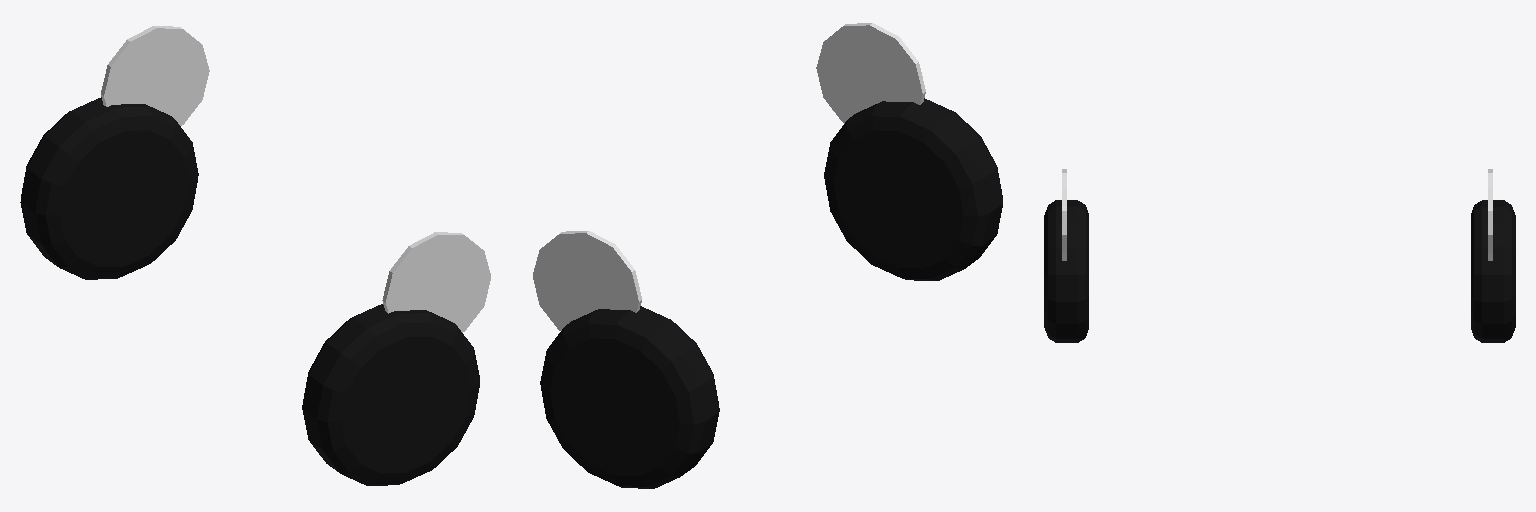
URDF robot description (powerbot):
<?xml version="1.0" ?>
<!-- =================================================================================== -->
<!-- |    This document was autogenerated by xacro from ./powerbot.xacro               | -->
<!-- |    EDITING THIS FILE BY HAND IS NOT RECOMMENDED                                 | -->
<!-- =================================================================================== -->
<robot name="powerbot" xmlns:controller="http://playerstage.sourceforge.net/gazebo/xmlschema/#controller" xmlns:interface="http://playerstage.sourceforge.net/gazebo/xmlschema/#interface" xmlns:sensor="http://playerstage.sourceforge.net/gazebo/xmlschema/#sensor" xmlns:xacro="http://ros.org/wiki/xacro">
  <!--<xacro:include filename="$(find p2os_urdf)/defs/materials.xacro"/>-->
  <!-- 0.148 -->
  <!-- Chassis -->
  <link name="base_center">
    <inertial>
      <mass value="120.0"/>
      <origin xyz="-0.045 0 0.067"/>
      <inertia ixx="0.4255" ixy="0.0" ixz="0.0" iyy="0.4955" iyz="0.0" izz="0.7441"/>
    </inertial>
    <visual name="base_visual">
      <origin rpy="0 0 0" xyz="-0.045 0 0.067"/>
      <geometry name="pioneer_geom">
        <mesh filename="package://champ_description/meshes/p3dx_meshes/chassis.stl"/>
      </geometry>
      <material name="ChassisYellow">
        <color rgba="0.715 0.583 0.210 1.0"/>
      </material>
    </visual>
    <collision>
      <origin rpy="0 0 0" xyz="-0.045 0 0.067"/>
      <geometry>
        <mesh filename="package://champ_description/meshes/p3dx_meshes/chassis.stl"/>
      </geometry>
    </collision>
  </link>
  <gazebo reference="base_center">
    <material value="Gazebo/Yellow"/>
  </gazebo>
  <!-- Top -->
  <joint name="base_top_joint" type="fixed">
    <!--origin xyz="-0.045 0 0.325" rpy="0 0 0"/-->
    <origin rpy="0 0 0" xyz="-0.045 0 0.277"/>
    <parent link="base_center"/>
    <child link="top_plate"/>
  </joint>
  <!-- Top plate -->
  <link name="top_plate">
    <inertial>
      <mass value="0.1"/>
      <origin xyz="0 0 0"/>
      <inertia ixx="1" ixy="0" ixz="0" iyy="1" iyz="0" izz="1"/>
    </inertial>
    <visual>
      <origin rpy="0 0 0" xyz="0 0 0"/>
      <geometry name="top_geom">
        <mesh filename="package://champ_description/meshes/p3dx_meshes/top.stl"/>
      </geometry>
      <material name="TopBlack">
        <color rgba="0.038 0.038 0.038 1.0"/>
      </material>
    </visual>
    <collision>
      <origin rpy="0 0 0" xyz="0 0 0"/>
      <geometry>
        <mesh filename="package://champ_description/meshes/p3dx_meshes/top.stl"/>
      </geometry>
    </collision>
  </link>
  <gazebo reference="top_plate">
    <material value="Gazebo/Black"/>
  </gazebo>
  <!-- Right Swivel support-->
  <link name="right_swivel_support">
    <inertial>
      <mass value="0.1"/>
      <origin rpy="0 0 0" xyz="0 0 0"/>
      <inertia ixx="0.01" ixy="0" ixz="0" iyy="0.01" iyz="0" izz="0.01"/>
    </inertial>
    <visual name="right_swivel_support_visual">
      <origin rpy="0 0 0" xyz="0 0 0"/>
      <geometry name="swivel">
        <mesh filename="package://champ_description/meshes/p3dx_meshes/swivel_support.stl"/>
      </geometry>
      <material name="swivel">
        <color rgba="0.9 0.9 0.9 1"/>
      </material>
    </visual>
    <collision>
      <origin rpy="0 0 0" xyz="0 0 0"/>
      <geometry>
        <mesh filename="package://champ_description/meshes/p3dx_meshes/swivel_support.stl"/>
      </geometry>
    </collision>
  </link>
  <gazebo reference="swivel">
    <material value="Gazebo/Grey"/>
  </gazebo>
  <joint name="right_base_swivel_support_joint" type="fixed">
    <origin rpy="0 0 0" xyz="-0.215 -0.2 -0.091"/>
    <parent link="base_center"/>
    <child link="right_swivel_support"/>
  </joint>
  <!-- Right Swivel -->
  <link name="right_swivel">
    <inertial>
      <mass value="0.1"/>
      <origin rpy="0 0 0" xyz="0 0 0"/>
      <inertia ixx="0.01" ixy="0" ixz="0" iyy="0.01" iyz="0" izz="0.01"/>
    </inertial>
    <visual name="right_swivel_visual">
      <origin rpy="0 0 0" xyz="0 0 0"/>
      <geometry name="swivel">
        <mesh filename="package://champ_description/meshes/p3dx_meshes/swivel.stl"/>
      </geometry>
      <material name="swivel">
        <color rgba="0.5 0.5 0.5 1"/>
      </material>
    </visual>
    <collision>
      <origin rpy="0 0 0" xyz="0 0 0"/>
      <geometry>
        <mesh filename="package://champ_description/meshes/p3dx_meshes/swivel.stl"/>
      </geometry>
    </collision>
  </link>
  <gazebo reference="swivel">
    <material value="Gazebo/Grey"/>
  </gazebo>
  <joint name="right_base_swivel_joint" type="fixed">
    <origin rpy="0 0 0" xyz="0 0 -0.04855"/>
    <!--<axis xyz="0 0 1"/>
	    	<limit effort="100" velocity="100" k_velocity="0" />
	    	<joint_properties damping="0.0" friction="0.0" />-->
    <parent link="right_swivel_support"/>
    <child link="right_swivel"/>
  </joint>
  <!-- Right swivel Wheel + Hubcap -->
  <link name="right_swivel_hubcap">
    <inertial>
      <mass value="0.01"/>
      <origin xyz="0 0 0"/>
      <inertia ixx="0.012411765597" ixy="-0.000711733678" ixz="0.00050272983" iyy="0.015218160428" iyz="-0.000004273467" izz="0.011763977943"/>
    </inertial>
    <visual name="right_swivel_hubcap">
      <origin rpy="0 0 0" xyz="0 0 0"/>
      <geometry name="pioneer_geom">
        <mesh filename="package://champ_description/meshes/p3dx_meshes/center_hubcap.stl"/>
      </geometry>
      <material name="swivel">
        <color rgba="0.5 0.5 0.5 1"/>
      </material>
    </visual>
    <collision>
      <origin rpy="0 0 0" xyz="0 0 0"/>
      <geometry>
        <mesh filename="package://champ_description/meshes/p3dx_meshes/center_hubcap.stl"/>
      </geometry>
    </collision>
  </link>
  <gazebo reference="swivel_hubcap">
    <material value="Gazebo/Grey"/>
  </gazebo>
  <joint name="right_swivel_hubcap_joint" type="continuous">
    <origin rpy="0 0 0" xyz="-0.036 0 -0.029"/>
    <axis xyz="0 1 0"/>
    <anchor xyz="0 0 0"/>
    <limit effort="100" k_velocity="0" velocity="100"/>
    <joint_properties damping="0.0" friction="0.0"/>
    <parent link="right_swivel"/>
    <child link="right_swivel_hubcap"/>
  </joint>
  <link name="right_swivel_wheel">
    <inertial>
      <mass value="0.1"/>
      <origin xyz="0 0 0"/>
      <inertia ixx="0.012411765597" ixy="-0.000711733678" ixz="0.00050272983" iyy="0.015218160428" iyz="-0.000004273467" izz="0.011763977943"/>
    </inertial>
    <visual name="right_swivel_wheel">
      <origin rpy="0 0 0" xyz="0 0 0"/>
      <geometry name="swivel_wheel">
        <mesh filename="package://champ_description/meshes/p3dx_meshes/center_wheel.stl"/>
      </geometry>
      <material name="WheelBlack">
        <color rgba="0.117 0.117 0.117 1"/>
      </material>
    </visual>
    <collision>
      <origin rpy=" -1.57079635 0 0" xyz="0 0 0"/>
      <geometry>
        <cylinder length="0.0422" radius="0.0669"/>
      </geometry>
    </collision>
  </link>
  <gazebo reference="swivel_wheel">
    <material value="Gazebo/Black"/>
  </gazebo>
  <joint name="right_swivel_wheel_hubcap_joint" type="fixed">
    <origin rpy="0 0 0" xyz="0 0 0"/>
    <parent link="right_swivel_hubcap"/>
    <child link="right_swivel_wheel"/>
  </joint>
  <!-- Left Swivel support-->
  <link name="left_swivel_support">
    <inertial>
      <mass value="0.1"/>
      <origin rpy="0 0 0" xyz="0 0 0"/>
      <inertia ixx="0.01" ixy="0" ixz="0" iyy="0.01" iyz="0" izz="0.01"/>
    </inertial>
    <visual name="left_swivel_support_visual">
      <origin rpy="0 0 0" xyz="0 0 0"/>
      <geometry name="swivel">
        <mesh filename="package://champ_description/meshes/p3dx_meshes/swivel_support.stl"/>
      </geometry>
      <material name="swivel">
        <color rgba="0.9 0.9 0.9 1"/>
      </material>
    </visual>
    <collision>
      <origin rpy="0 0 0" xyz="0 0 0"/>
      <geometry>
        <mesh filename="package://champ_description/meshes/p3dx_meshes/swivel_support.stl"/>
      </geometry>
    </collision>
  </link>
  <gazebo reference="swivel">
    <material value="Gazebo/Grey"/>
  </gazebo>
  <joint name="left_base_swivel_support_joint" type="fixed">
    <origin rpy="0 0 0" xyz="-0.215 0.2 -0.091"/>
    <parent link="base_center"/>
    <child link="left_swivel_support"/>
  </joint>
  <!--Left Swivel -->
  <link name="left_swivel">
    <inertial>
      <mass value="0.1"/>
      <origin rpy="0 0 0" xyz="0 0 0"/>
      <inertia ixx="0.01" ixy="0" ixz="0" iyy="0.01" iyz="0" izz="0.01"/>
    </inertial>
    <visual name="left_swivel_visual">
      <origin rpy="0 0 0" xyz="0 0 0"/>
      <geometry name="swivel">
        <mesh filename="package://champ_description/meshes/p3dx_meshes/swivel.stl"/>
      </geometry>
      <material name="swivel">
        <color rgba="0.5 0.5 0.5 1"/>
      </material>
    </visual>
    <collision>
      <origin rpy="0 0 0" xyz="0 0 0"/>
      <geometry>
        <mesh filename="package://champ_description/meshes/p3dx_meshes/swivel.stl"/>
      </geometry>
    </collision>
  </link>
  <gazebo reference="swivel">
    <material value="Gazebo/Grey"/>
  </gazebo>
  <joint name="left_base_swivel_joint" type="fixed">
    <origin rpy="0 0 0" xyz="0 0 -0.04855"/>
    <!--	<axis xyz="0 0 1"/>
         <limit effort="100" velocity="100" k_velocity="0" />
    	<joint_properties damping="0.0" friction="0.0" />-->
    <parent link="left_swivel_support"/>
    <child link="left_swivel"/>
  </joint>
  <!-- left swivel Wheel + Hubcap -->
  <link name="left_swivel_hubcap">
    <inertial>
      <mass value="0.01"/>
      <origin xyz="0 0 0"/>
      <inertia ixx="0.012411765597" ixy="-0.000711733678" ixz="0.00050272983" iyy="0.015218160428" iyz="-0.000004273467" izz="0.011763977943"/>
    </inertial>
    <visual name="left_swivel_hubcap">
      <origin rpy="0 0 0" xyz="0 0 0"/>
      <geometry name="pioneer_geom">
        <mesh filename="package://champ_description/meshes/p3dx_meshes/center_hubcap.stl"/>
      </geometry>
      <material name="swivel">
        <color rgba="0.5 0.5 0.5 1"/>
      </material>
    </visual>
    <collision>
      <origin rpy="0 0 0" xyz="0 0 0"/>
      <geometry>
        <mesh filename="package://champ_description/meshes/p3dx_meshes/center_hubcap.stl"/>
      </geometry>
    </collision>
  </link>
  <gazebo reference="swivel_hubcap">
    <material value="Gazebo/Grey"/>
  </gazebo>
  <joint name="left_swivel_hubcap_joint" type="continuous">
    <origin rpy="0 0 0" xyz="-0.036 0 -0.029"/>
    <axis xyz="0 1 0"/>
    <anchor xyz="0 0 0"/>
    <limit effort="100" k_velocity="0" velocity="100"/>
    <joint_properties damping="0.0" friction="0.0"/>
    <parent link="left_swivel"/>
    <child link="left_swivel_hubcap"/>
  </joint>
  <link name="left_swivel_wheel">
    <inertial>
      <mass value="0.1"/>
      <origin xyz="0 0 0"/>
      <inertia ixx="0.012411765597" ixy="-0.000711733678" ixz="0.00050272983" iyy="0.015218160428" iyz="-0.000004273467" izz="0.011763977943"/>
    </inertial>
    <visual name="left_swivel_wheel">
      <origin rpy="0 0 0" xyz="0 0 0"/>
      <geometry name="swivel_wheel">
        <mesh filename="package://champ_description/meshes/p3dx_meshes/center_wheel.stl"/>
      </geometry>
      <material name="WheelBlack">
        <color rgba="0.117 0.117 0.117 1"/>
      </material>
    </visual>
    <collision>
      <origin rpy=" -1.57079635 0 0" xyz="0 0 0"/>
      <geometry>
        <cylinder length="0.0422" radius="0.0669"/>
      </geometry>
    </collision>
  </link>
  <gazebo reference="swivel_wheel">
    <material value="Gazebo/Black"/>
  </gazebo>
  <joint name="left_swivel_wheel_hubcap_joint" type="fixed">
    <origin rpy="0 0 0" xyz="0 0 0"/>
    <parent link="left_swivel_hubcap"/>
    <child link="left_swivel_wheel"/>
  </joint>
  <!--Left Wheel and hub-->
  <link name="left_hubcap">
    <inertial>
      <mass value="0.08"/>
      <origin xyz="0 0 0"/>
      <inertia ixx="0.012411765597" ixy="0" ixz="0" iyy="0.015218160428" iyz="0" izz="0.011763977943"/>
    </inertial>
    <visual>
      <origin rpy="0 0 0" xyz="0 0 0"/>
      <geometry>
        <mesh filename="package://champ_description/meshes/p3dx_meshes/hubcap.stl"/>
      </geometry>
      <material name="HubcapWhite">
        <color rgba="1.0 1.0 1.0 1.0"/>
      </material>
    </visual>
    <collision>
      <origin rpy="0 0 0" xyz="0 0 0"/>
      <geometry>
        <mesh filename="package://champ_description/meshes/p3dx_meshes/hubcap.stl"/>
      </geometry>
    </collision>
  </link>
  <joint name="left_hub_joint" type="fixed">
    <origin rpy="0 0 0" xyz="0.034 0.35 -0.0835"/>
    <!--<anchor xyz="0 0 0"/>
	        <limit effort="100" velocity="100" />
	        <joint_properties damping="0.0" friction="0.0" />-->
    <parent link="base_center"/>
    <child link="left_hubcap"/>
    <axis xyz="0 1 0"/>
  </joint>
  <link name="left_wheel">
    <inertial>
      <mass value="1.25"/>
      <origin xyz="0 0 0"/>
      <inertia ixx="0.012411765597" ixy="0" ixz="0" iyy="0.015218160428" iyz="0" izz="0.011763977943"/>
    </inertial>
    <visual>
      <origin rpy="0 0 0" xyz="0 0 0"/>
      <geometry>
        <mesh filename="package://champ_description/meshes/p3dx_meshes/wheel.stl"/>
      </geometry>
      <material name="WheelBlack">
        <color rgba="0.117 0.117 0.117 1"/>
      </material>
    </visual>
    <collision>
      <origin rpy="-1.57079635 0 0" xyz="0 0 0"/>
      <geometry>
        <cylinder length="0.065" radius="0.1315"/>
      </geometry>
    </collision>
  </link>
  <joint name="left_wheel_joint" type="fixed">
    <origin rpy="0 0 0" xyz="0 0 0"/>
    <parent link="left_hubcap"/>
    <child link="left_wheel"/>
  </joint>
  <gazebo reference="left_wheel">
    <material value="Gazebo/Black"/>
  </gazebo>
  <!--Right Wheel and hub-->
  <link name="right_hubcap">
    <inertial>
      <mass value="0.08"/>
      <origin xyz="0 0 0"/>
      <inertia ixx="0.012411765597" ixy="0" ixz="0" iyy="0.015218160428" iyz="0" izz="0.011763977943"/>
    </inertial>
    <visual>
      <origin rpy="0 0 0" xyz="0 0 0"/>
      <geometry>
        <mesh filename="package://champ_description/meshes/p3dx_meshes/hubcap.stl"/>
      </geometry>
      <material name="HubcapWhite">
        <color rgba="1.0 1.0 1.0 1.0"/>
      </material>
    </visual>
    <collision>
      <origin rpy="0 0 0" xyz="0 0 0"/>
      <geometry>
        <mesh filename="package://champ_description/meshes/p3dx_meshes/hubcap.stl"/>
      </geometry>
    </collision>
  </link>
  <joint name="right_hub_joint" type="fixed">
    <origin rpy="0 0 0" xyz="0.034 -0.35 -0.0835"/>
    <!--<anchor xyz="0 0 0"/>
	        <limit effort="100" velocity="100" />
	        <joint_properties damping="0.0" friction="0.0" />-->
    <parent link="base_center"/>
    <child link="right_hubcap"/>
    <axis xyz="0 1 0"/>
  </joint>
  <link name="right_wheel">
    <inertial>
      <mass value="1.25"/>
      <origin xyz="0 0 0"/>
      <inertia ixx="0.012411765597" ixy="0" ixz="0" iyy="0.015218160428" iyz="0" izz="0.011763977943"/>
    </inertial>
    <visual>
      <origin rpy="0 0 0" xyz="0 0 0"/>
      <geometry>
        <mesh filename="package://champ_description/meshes/p3dx_meshes/wheel.stl"/>
      </geometry>
      <material name="WheelBlack">
        <color rgba="0.117 0.117 0.117 1"/>
      </material>
    </visual>
    <collision>
      <origin rpy="-1.57079635 0 0" xyz="0 0 0"/>
      <geometry>
        <cylinder length="0.065" radius="0.1315"/>
      </geometry>
    </collision>
  </link>
  <joint name="right_wheel_joint" type="fixed">
    <origin rpy="0 0 0" xyz="0 0 0"/>
    <parent link="right_hubcap"/>
    <child link="right_wheel"/>
  </joint>
  <gazebo reference="right_wheel">
    <material value="Gazebo/Black"/>
  </gazebo>
</robot>

--- Facts derived from the render (not from the file) ---
Views: 3 orthographic renders of the robot side by side, from view 1: azimuth 30°, elevation 25°; view 2: azimuth 150°, elevation 25°; view 3: azimuth 270°, elevation 25°.
Robot: powerbot — 14 links, 13 joints (2 continuous, 11 fixed); root link base_center; default pose: all joints at 0.
Links seen in each view (by area): view 1: left_swivel_wheel, right_swivel_wheel, right_swivel_support, left_swivel_support; view 2: left_swivel_wheel, right_swivel_wheel, right_swivel_support, left_swivel_support; view 3: right_swivel_wheel, left_swivel_wheel.
Link boxes in pixels (x1,y1,x2,y2): left_swivel_wheel: (20,97,198,279); right_swivel_wheel: (302,304,479,485); right_swivel_support: (382,232,490,332); left_swivel_support: (101,26,209,125); left_swivel_wheel: (540,306,719,488); right_swivel_wheel: (824,98,1002,280); right_swivel_support: (816,23,925,123); left_swivel_support: (533,231,641,330); right_swivel_wheel: (1044,200,1088,342); left_swivel_wheel: (1471,200,1515,342).
Size in the robot's own frame: 0.1464 by 0.4422 by 0.1856 metres.
4 mesh visuals loaded from 8 distinct referenced files (2 binary STL); not drawn: 10 (reference not matched to a file when rendering).